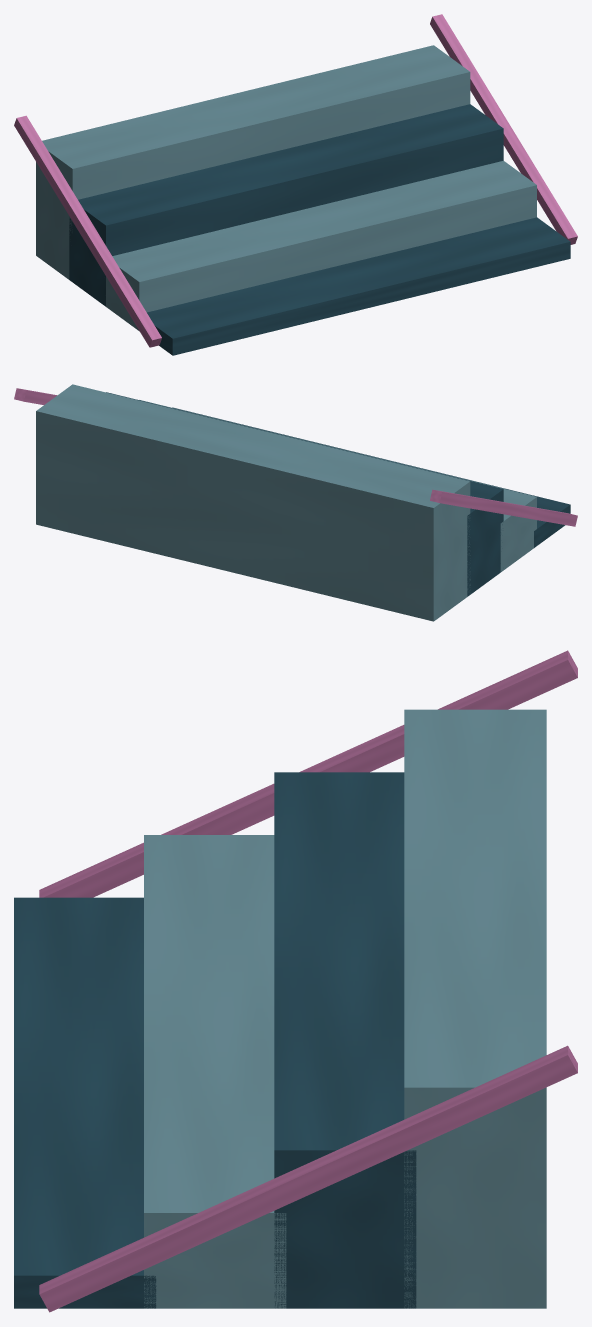
Rendered from atlas100-s061-a10.glb.
3 renders of one model, top to bottom at view 1: azimuth 30°, elevation 25°; view 2: azimuth 150°, elevation 25°; view 3: azimuth 270°, elevation 25°, orthographic. The views are drawn at different scales.
Visible parts, largest first — view 1: atlas100-s061-a10:part-003, atlas100-s061-a10:part-002, atlas100-s061-a10:part-001, atlas100-s061-a10:part-000, atlas100-s061-a10:part-004, atlas100-s061-a10:part-005; view 2: atlas100-s061-a10:part-003, atlas100-s061-a10:part-002, atlas100-s061-a10:part-001, atlas100-s061-a10:part-004, atlas100-s061-a10:part-000, atlas100-s061-a10:part-005; view 3: atlas100-s061-a10:part-003, atlas100-s061-a10:part-002, atlas100-s061-a10:part-001, atlas100-s061-a10:part-000, atlas100-s061-a10:part-005, atlas100-s061-a10:part-004.
Part boxes in pixels (left/top/right/bottom): atlas100-s061-a10:part-003: left=36, top=45, right=470, bottom=279; atlas100-s061-a10:part-002: left=69, top=104, right=503, bottom=306; atlas100-s061-a10:part-001: left=106, top=160, right=536, bottom=330; atlas100-s061-a10:part-000: left=137, top=217, right=570, bottom=355; atlas100-s061-a10:part-004: left=14, top=115, right=161, bottom=347; atlas100-s061-a10:part-005: left=430, top=14, right=577, bottom=244; atlas100-s061-a10:part-003: left=36, top=384, right=470, bottom=621; atlas100-s061-a10:part-002: left=106, top=392, right=503, bottom=596; atlas100-s061-a10:part-001: left=139, top=400, right=536, bottom=572; atlas100-s061-a10:part-004: left=430, top=489, right=577, bottom=526; atlas100-s061-a10:part-000: left=172, top=407, right=570, bottom=547; atlas100-s061-a10:part-005: left=14, top=388, right=56, bottom=404; atlas100-s061-a10:part-003: left=404, top=709, right=546, bottom=1308; atlas100-s061-a10:part-002: left=274, top=772, right=416, bottom=1308; atlas100-s061-a10:part-001: left=144, top=835, right=286, bottom=1308; atlas100-s061-a10:part-000: left=14, top=897, right=156, bottom=1308; atlas100-s061-a10:part-005: left=39, top=1045, right=577, bottom=1312; atlas100-s061-a10:part-004: left=39, top=650, right=577, bottom=897.
Size of the model in its own units: 2.36 by 0.7246 by 1.39.
Materials: 3 (3 with a texture image).
